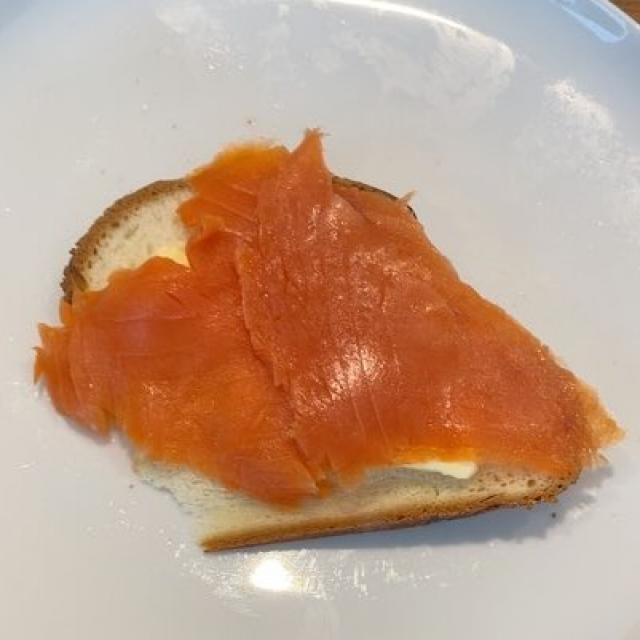bread: (39, 161, 617, 546)
butter: (222, 272, 490, 482)
salmon: (32, 127, 619, 506)
